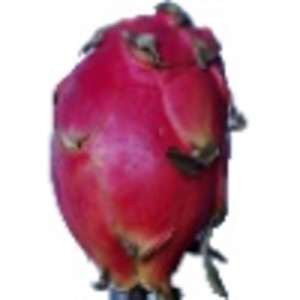pitaia: (48, 1, 249, 300)
